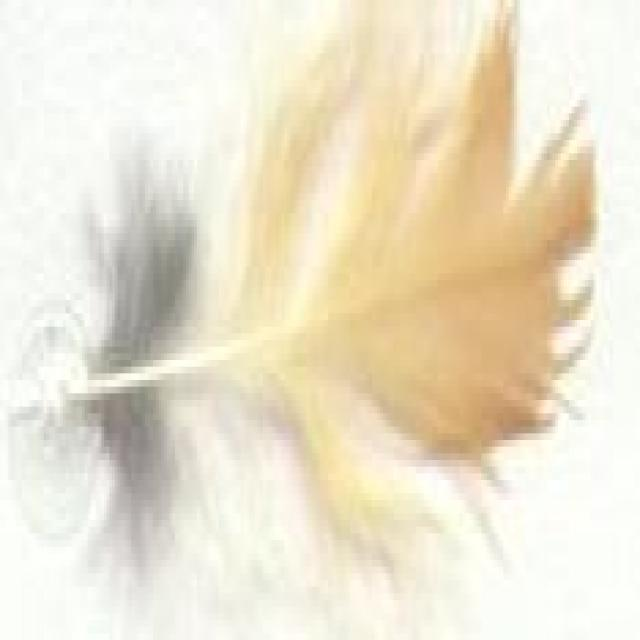feather: (3, 0, 612, 640)
